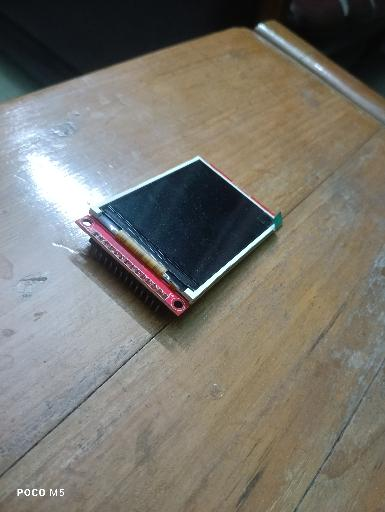Display: (73, 152, 285, 321)
